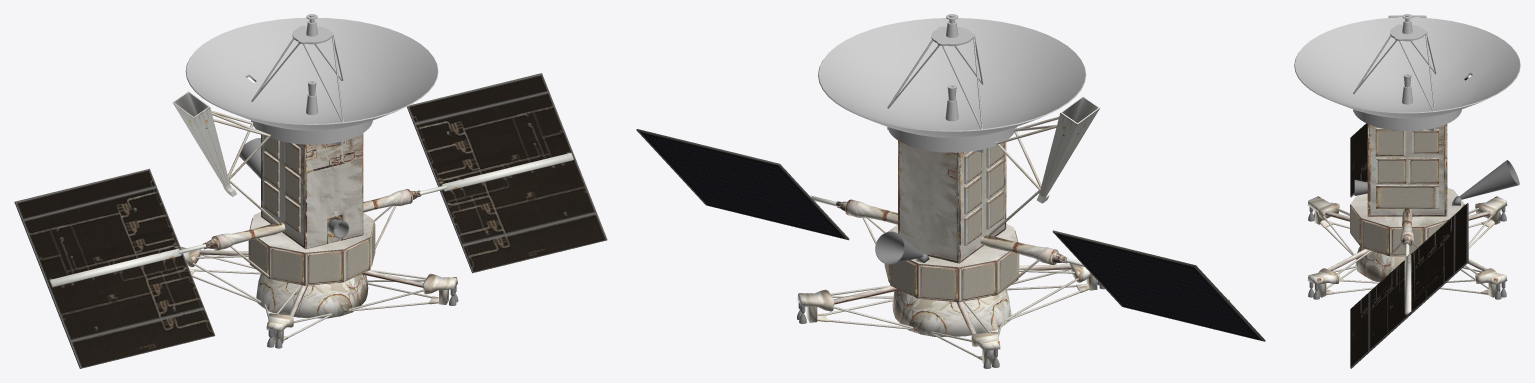
Rendered from maggellan_ex.fbx.
3 views of the same model, side by side, from view 1: azimuth 30°, elevation 25°; view 2: azimuth 150°, elevation 25°; view 3: azimuth 270°, elevation 25° (orthographic). The views are drawn at different scales.
Parts seen in each view (by area): view 1: korpus, solar_plane, solar_plane1, dish_etc, aluminum2, aluminum; view 2: korpus, dish_etc, solar_plane, solar_plane1, aluminum; view 3: dish_etc, korpus, solar_plane1, aluminum, solar_plane, aluminum2.
Part boxes in pixels (left/top/right/bottom): korpus: left=172, top=91, right=457, bottom=344; solar_plane: left=14, top=168, right=217, bottom=368; solar_plane1: left=407, top=73, right=607, bottom=273; dish_etc: left=185, top=14, right=438, bottom=144; aluminum2: left=267, top=219, right=458, bottom=348; aluminum: left=239, top=138, right=260, bottom=178; korpus: left=797, top=96, right=1099, bottom=364; dish_etc: left=818, top=14, right=1086, bottom=152; solar_plane: left=1052, top=230, right=1265, bottom=341; solar_plane1: left=636, top=129, right=849, bottom=240; aluminum: left=875, top=231, right=923, bottom=264; dish_etc: left=1294, top=14, right=1520, bottom=131; korpus: left=1307, top=15, right=1507, bottom=297; solar_plane1: left=1350, top=203, right=1468, bottom=368; aluminum: left=1459, top=160, right=1519, bottom=199; solar_plane: left=1350, top=76, right=1468, bottom=197; aluminum2: left=1308, top=180, right=1506, bottom=299.
Bounding box in the file's own units: 890 × 453 × 370.
